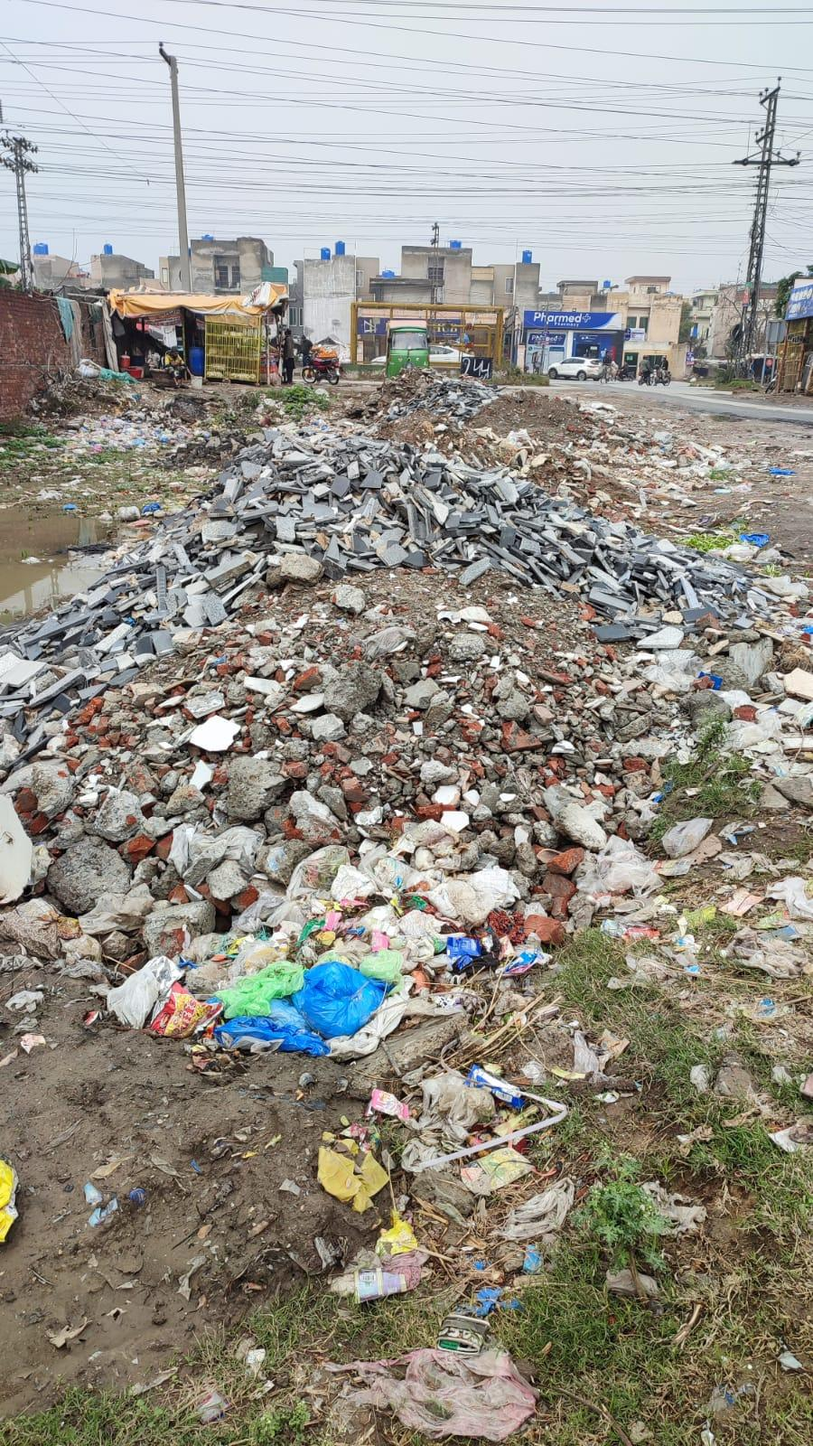garbage: (76, 383, 753, 1076)
